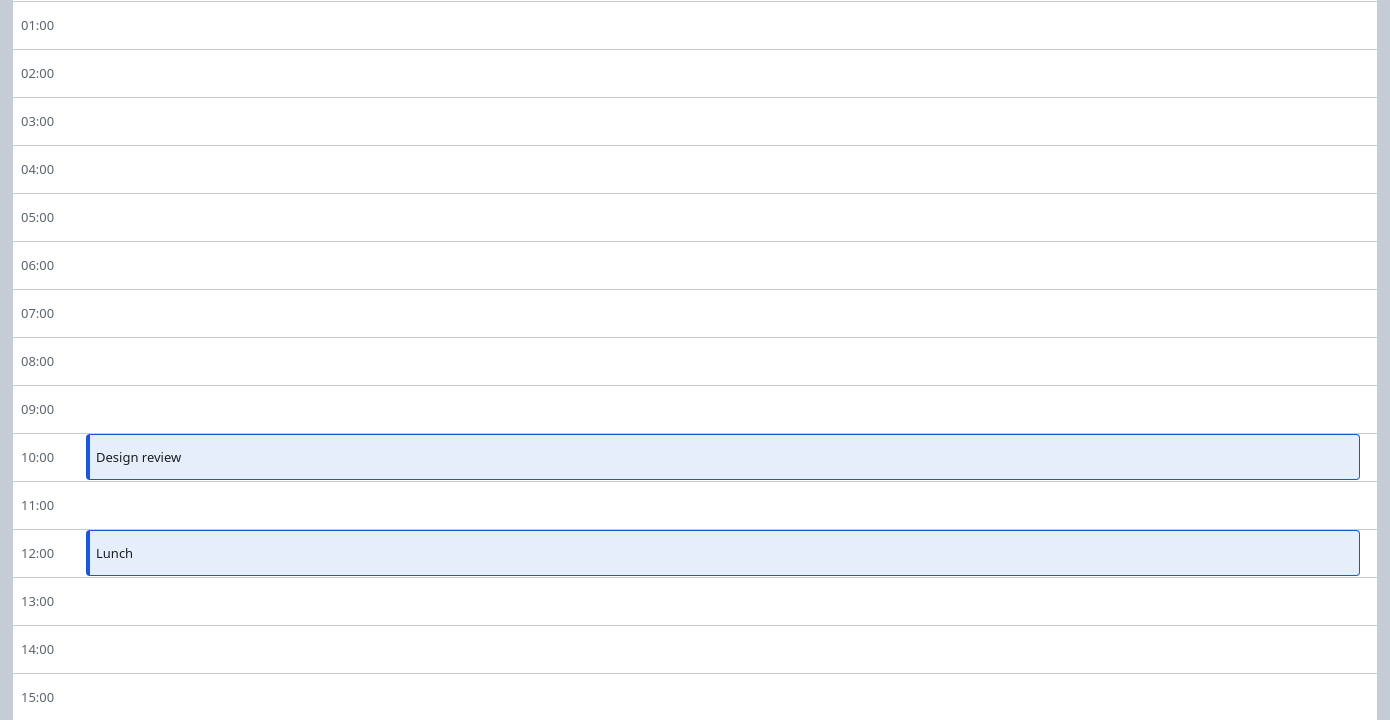
Scenario: Calendar: changing and deleting an event › shows the other event when one is clicked while the form is open
The width and height of the screenshot is (1390, 720).
Click the button with aria-label "Design review," at point(139, 457), box [86,434,1360,480]
(page scrolled)
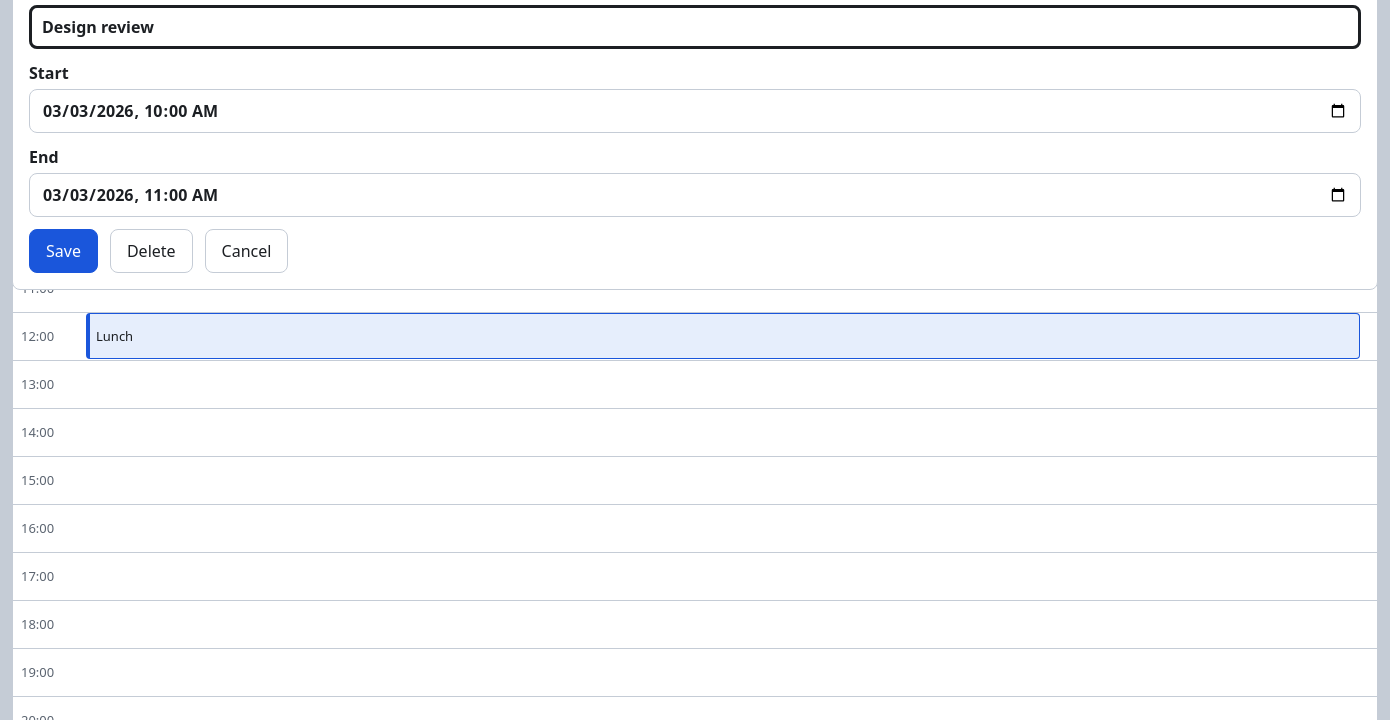
Click the button "Lunch" at point(115, 336), box [86,313,1360,359]
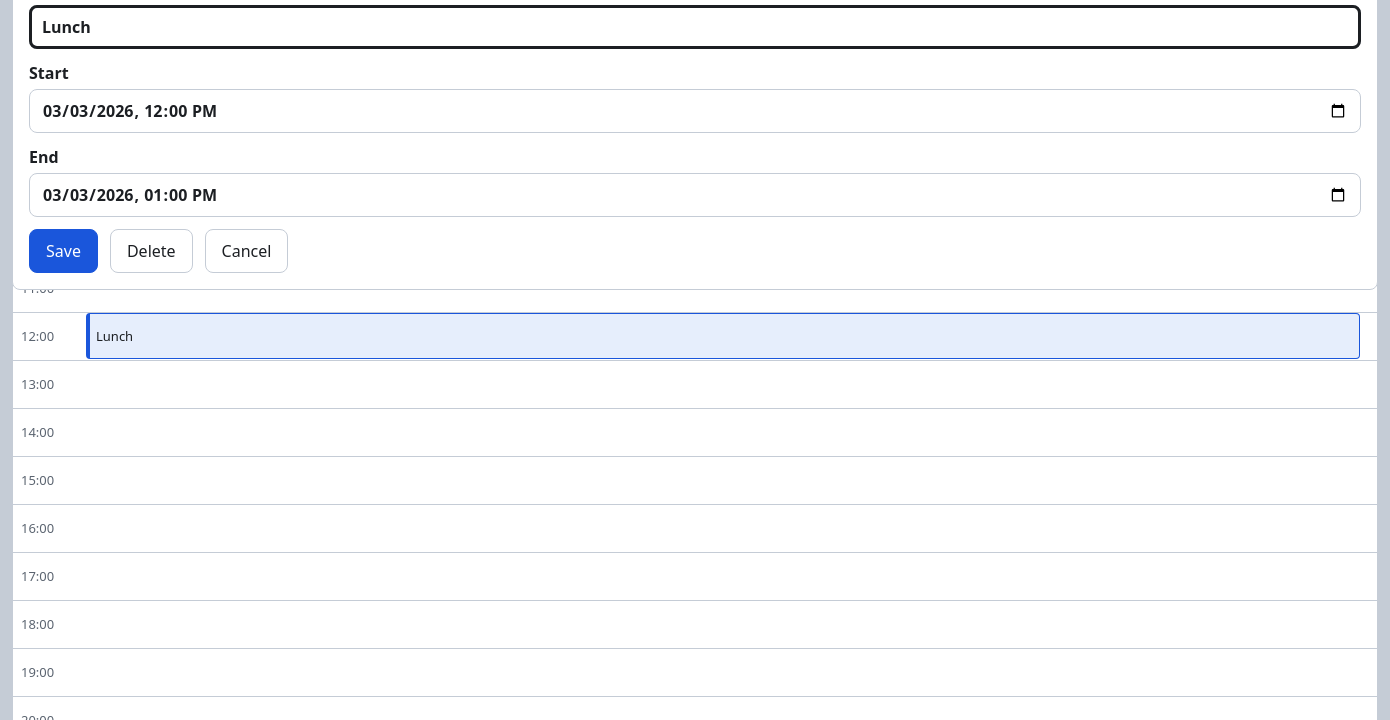
Expected: the field labelled "Title" holds "Lunch", [29,5,1361,49]
Expected: the field labelled "Start" holds "2026-03-03T12:00", [29,89,1361,133]
